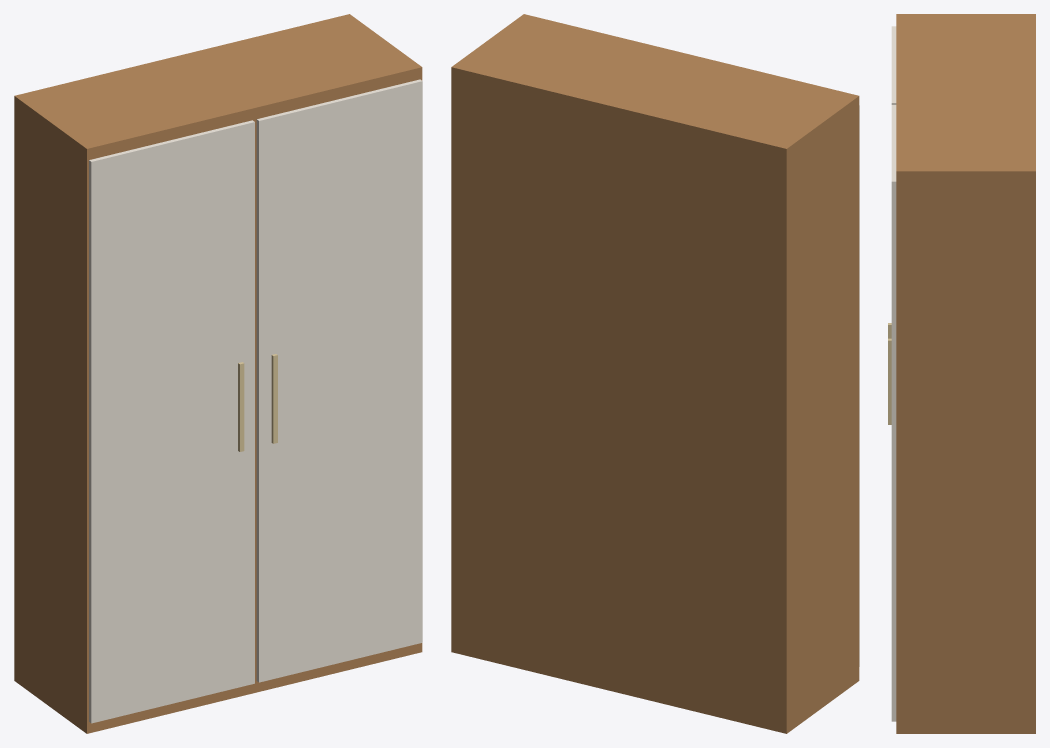
File: armario_alto_120.obj
3 views of the same model, side by side, from view 1: azimuth 30°, elevation 25°; view 2: azimuth 150°, elevation 25°; view 3: azimuth 270°, elevation 25° (orthographic). The views are drawn at different scales.
Visible parts, largest first — view 1: armario_alto_120; view 2: armario_alto_120; view 3: armario_alto_120.
Boxes of the visible parts, left/top/right/bottom form: armario_alto_120: left=14, top=14, right=422, bottom=733; armario_alto_120: left=451, top=14, right=859, bottom=733; armario_alto_120: left=888, top=14, right=1035, bottom=733.
Bounding box in the file's own units: 1.2 × 2 × 0.476.
